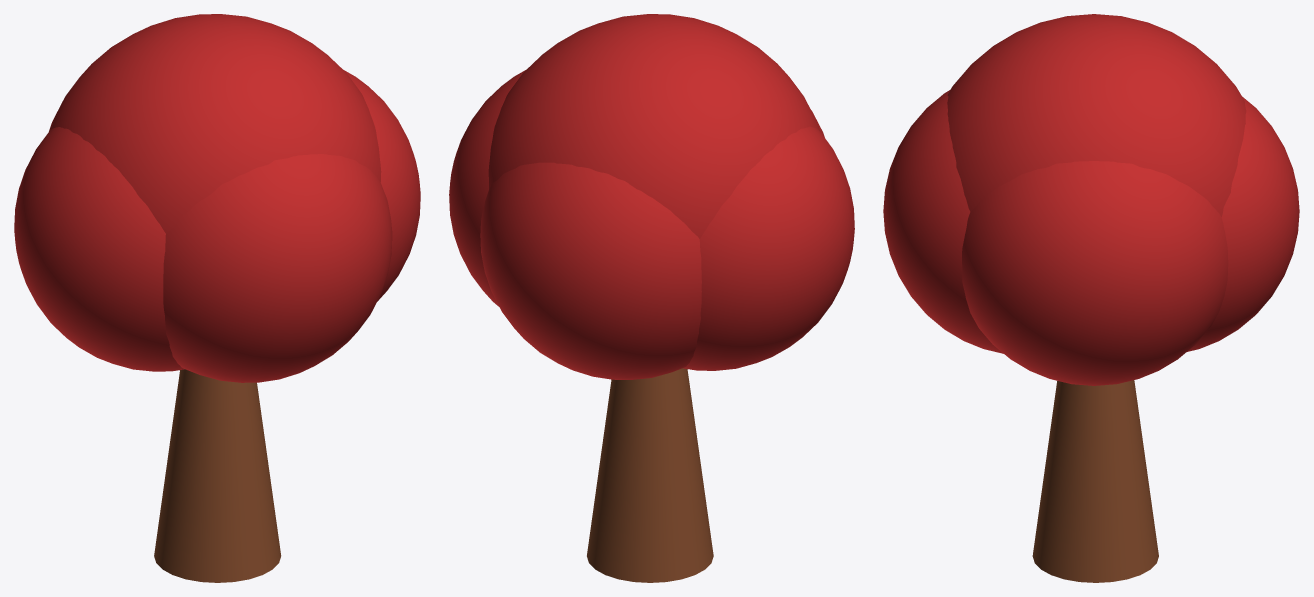
The model's file is AngerLv1.glb.
3 renders of one model, left to right at view 1: azimuth 30°, elevation 25°; view 2: azimuth 150°, elevation 25°; view 3: azimuth 270°, elevation 25°, orthographic.
Visible parts, largest first — view 1: GeoSphere062, GeoSphere066, GeoSphere064, Cone217, GeoSphere063; view 2: GeoSphere062, GeoSphere065, GeoSphere064, Cone217, GeoSphere063; view 3: GeoSphere063, GeoSphere062, Cone217, GeoSphere066, GeoSphere065.
Boxes of the visible parts, bbox=[...] form: GeoSphere062: bbox=[49, 14, 381, 233]; GeoSphere066: bbox=[163, 154, 392, 382]; GeoSphere064: bbox=[14, 127, 184, 371]; Cone217: bbox=[154, 369, 281, 582]; GeoSphere063: bbox=[344, 70, 420, 301]; GeoSphere062: bbox=[488, 14, 820, 238]; GeoSphere065: bbox=[480, 162, 701, 379]; GeoSphere064: bbox=[683, 126, 854, 370]; Cone217: bbox=[587, 368, 713, 582]; GeoSphere063: bbox=[449, 70, 525, 306]; GeoSphere063: bbox=[962, 161, 1228, 385]; GeoSphere062: bbox=[947, 14, 1246, 216]; Cone217: bbox=[1032, 380, 1158, 582]; GeoSphere066: bbox=[883, 90, 1003, 353]; GeoSphere065: bbox=[1187, 97, 1299, 351].
Size of the model in its own units: 0.3704 by 0.5074 by 0.3653.
